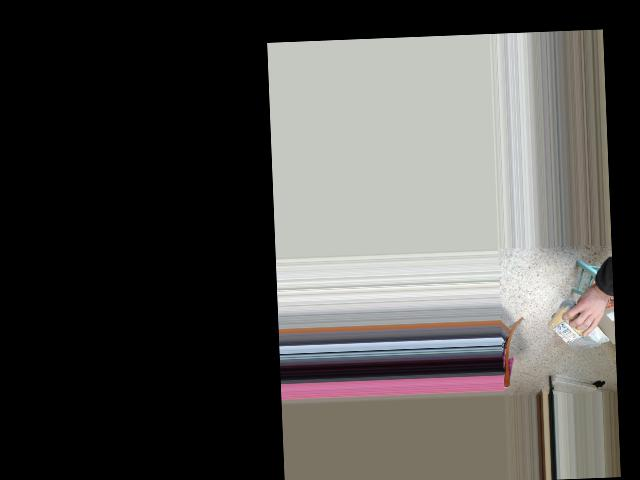cheese: (548, 302, 608, 348)
